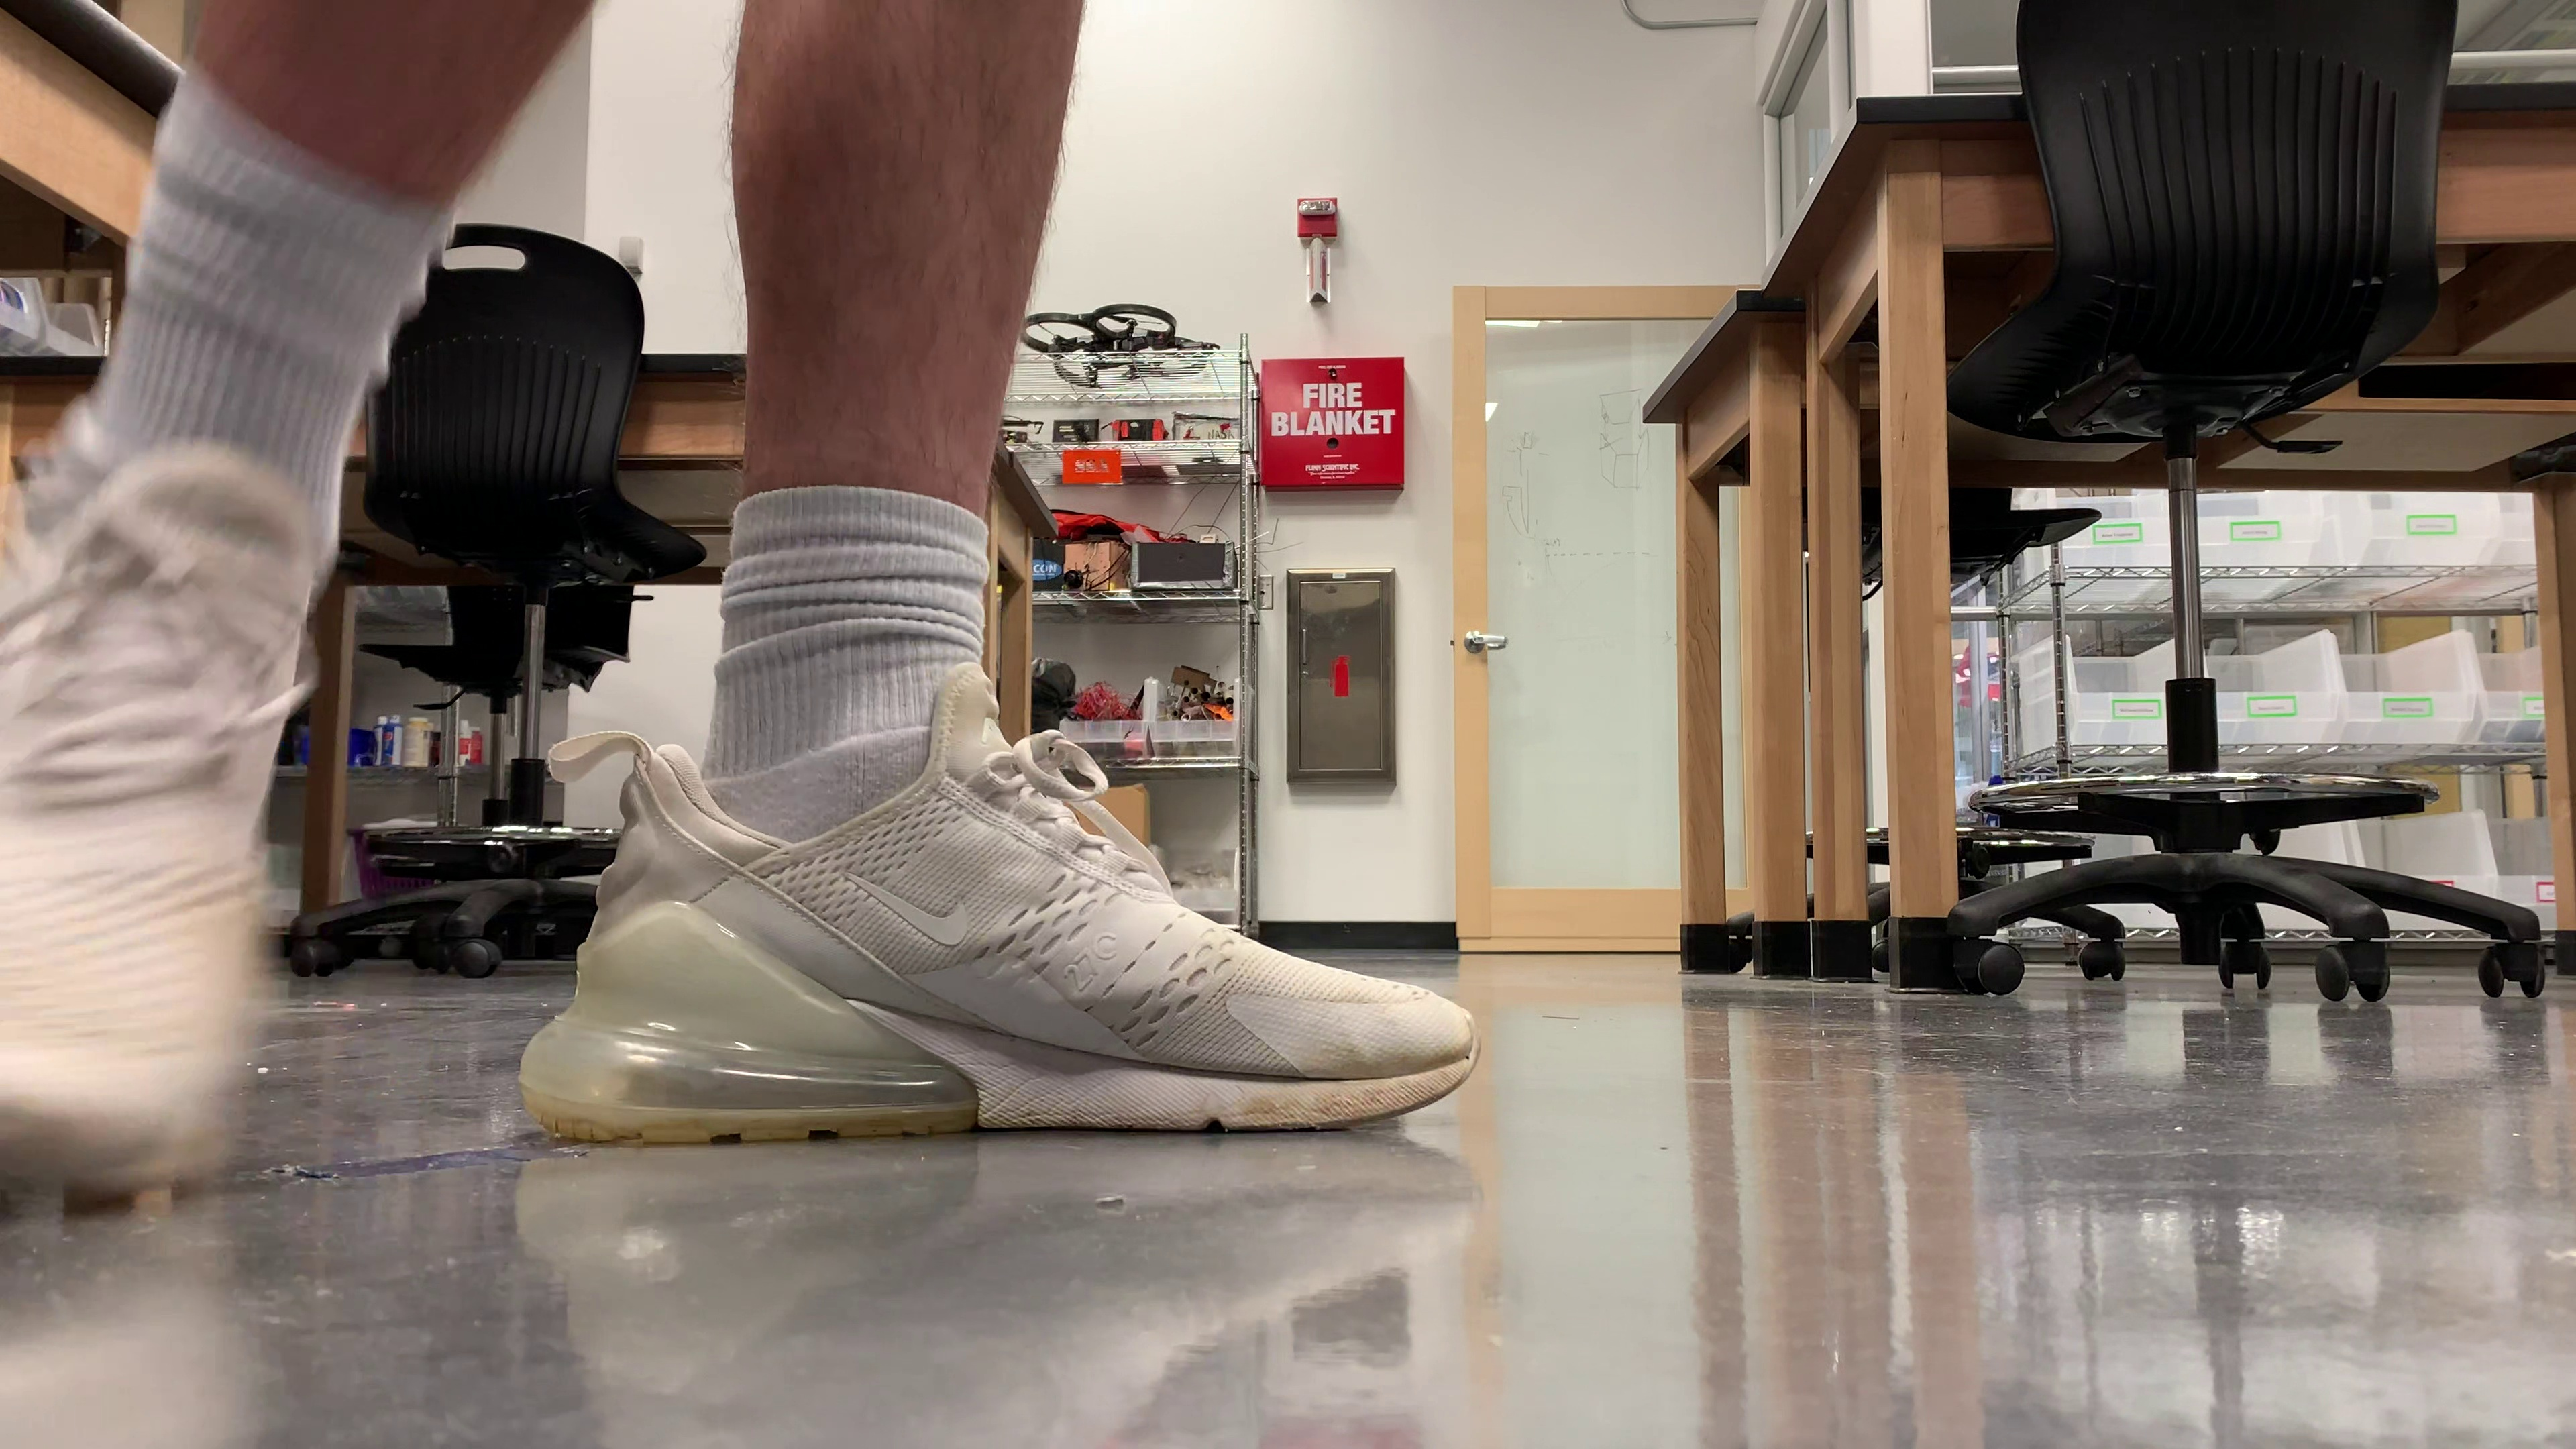shoe: (520, 665, 1479, 1141)
